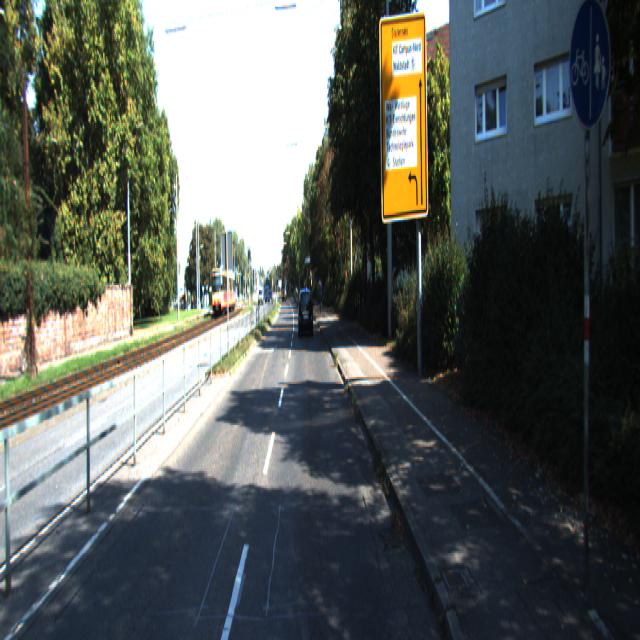Car: (212, 271, 237, 320), (299, 290, 314, 340)
